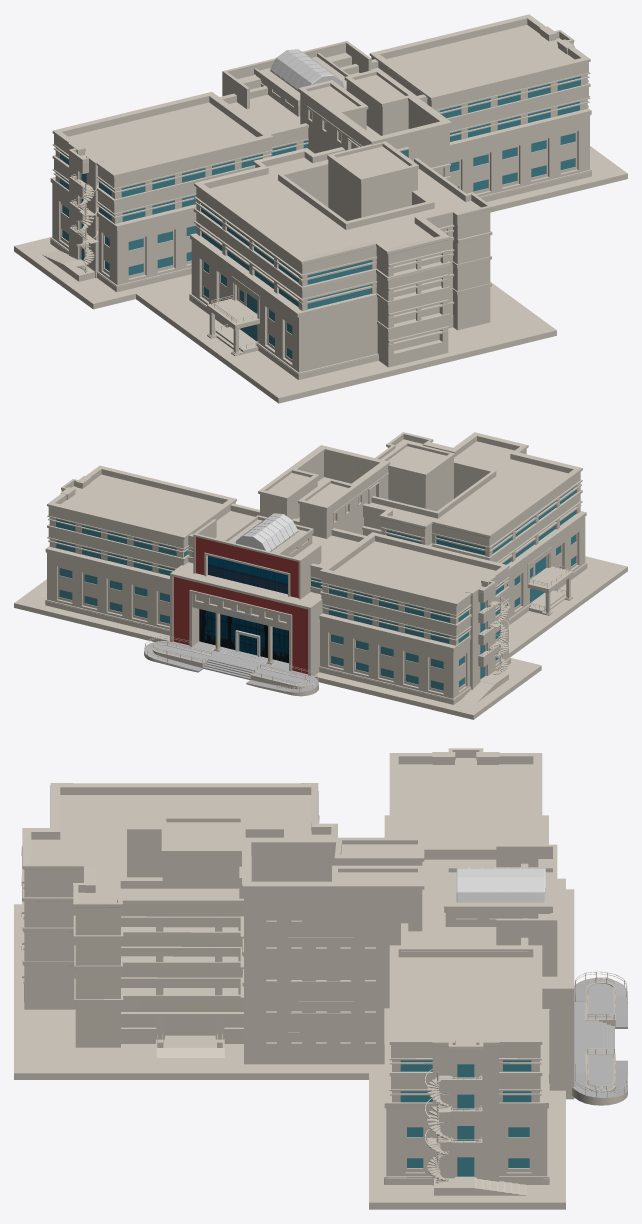
File: SMS Building.fbx
3 views of the same model, one above another, from view 1: azimuth 30°, elevation 25°; view 2: azimuth 150°, elevation 25°; view 3: azimuth 270°, elevation 25° (orthographic). The views are drawn at different scales.
Parts seen in each view (by area): view 1: sms_building02, polySurface819, sms_building01, polySurface845, polySurface678, SMS_Building_001, polySurface679, polySurface821, sms_building, smsbuilding, polySurface686, sms_building1 (+6 smaller); view 2: sms_building02, sms_building01, polySurface819, IIT__front_Building04:IIT__front_Building04:polySurface235_I, polySurface845, SMS_Building_001, smsbuilding, polySurface679, polySurface678, sms_building, sms_building_steps, group6 (+4 smaller); view 3: sms_building01, polySurface819, SMS_Building_001, polySurface845, sms_building02, IIT__front_Building04:IIT__front_Building04:polySurface235_I (×4), polySurface821, polySurface679, sms_building, smsbuilding, sms_building_steps, group6 (+5 smaller).
Part boxes in pixels (left/top/right/bottom): sms_building02: left=42, top=92, right=273, bottom=291; polySurface819: left=193, top=147, right=492, bottom=328; sms_building01: left=369, top=14, right=591, bottom=201; polySurface845: left=14, top=146, right=627, bottom=403; polySurface678: left=190, top=233, right=377, bottom=372; SMS_Building_001: left=298, top=68, right=451, bottom=181; polySurface679: left=327, top=141, right=418, bottom=220; polySurface821: left=377, top=282, right=491, bottom=367; sms_building: left=219, top=59, right=427, bottom=156; smsbuilding: left=222, top=41, right=371, bottom=109; polySurface686: left=207, top=295, right=259, bottom=356; sms_building1: left=270, top=49, right=344, bottom=92; sms_building02: left=319, top=532, right=510, bottom=704; sms_building01: left=38, top=465, right=236, bottom=635; polySurface819: left=362, top=432, right=582, bottom=562; IIT__front_Building04:IIT__front_Building04:polySurface235_I: left=170, top=562, right=322, bottom=675; polySurface845: left=14, top=556, right=627, bottom=719; SMS_Building_001: left=258, top=445, right=390, bottom=538; smsbuilding: left=193, top=519, right=321, bottom=599; polySurface679: left=381, top=441, right=454, bottom=511; polySurface678: left=507, top=511, right=586, bottom=618; sms_building: left=187, top=503, right=366, bottom=647; sms_building_steps: left=154, top=641, right=309, bottom=685; group6: left=144, top=636, right=318, bottom=696; sms_building01: left=384, top=945, right=549, bottom=1195; polySurface819: left=22, top=783, right=337, bottom=999; SMS_Building_001: left=238, top=837, right=424, bottom=1064; polySurface845: left=14, top=878, right=565, bottom=1209; sms_building02: left=384, top=748, right=548, bottom=852; IIT__front_Building04:IIT__front_Building04:polySurface235_I (×4): left=121, top=889, right=574, bottom=1099; polySurface821: left=22, top=945, right=243, bottom=1047; polySurface679: left=161, top=816, right=245, bottom=888; sms_building: left=401, top=852, right=528, bottom=954; smsbuilding: left=496, top=844, right=557, bottom=976; sms_building_steps: left=574, top=983, right=614, bottom=1090; group6: left=572, top=971, right=627, bottom=1105.
Bounding box in the file's own units: 26.21 × 7.14 × 20.99.
